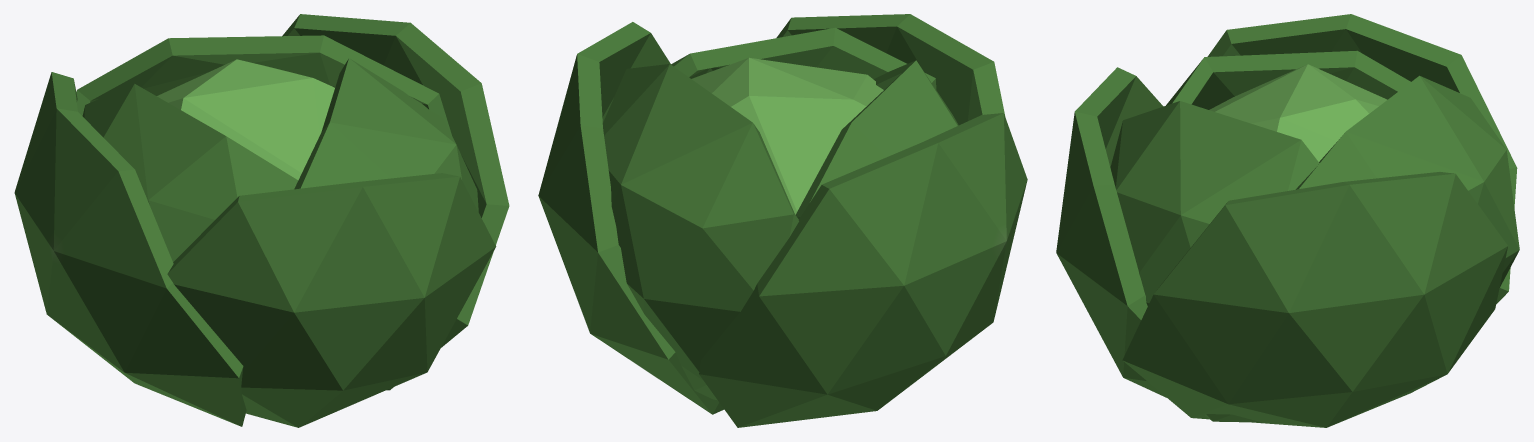
The model's file is SM_Food_Cabbage_01.fbx.
The picture shows the model from 3 angles, left to right: view 1: azimuth 30°, elevation 25°; view 2: azimuth 150°, elevation 25°; view 3: azimuth 270°, elevation 25°; orthographic projection. The views are drawn at different scales.
Parts seen in each view (by area): view 1: SM_Food_Cabbage_01; view 2: SM_Food_Cabbage_01; view 3: SM_Food_Cabbage_01.
Boxes of the visible parts, x1,y1,x2,y2 form: SM_Food_Cabbage_01: (14,14,509,427); SM_Food_Cabbage_01: (538,14,1027,427); SM_Food_Cabbage_01: (1056,14,1519,427).
Bounding box in the file's own units: 0.2135 × 0.1525 × 0.2028.
